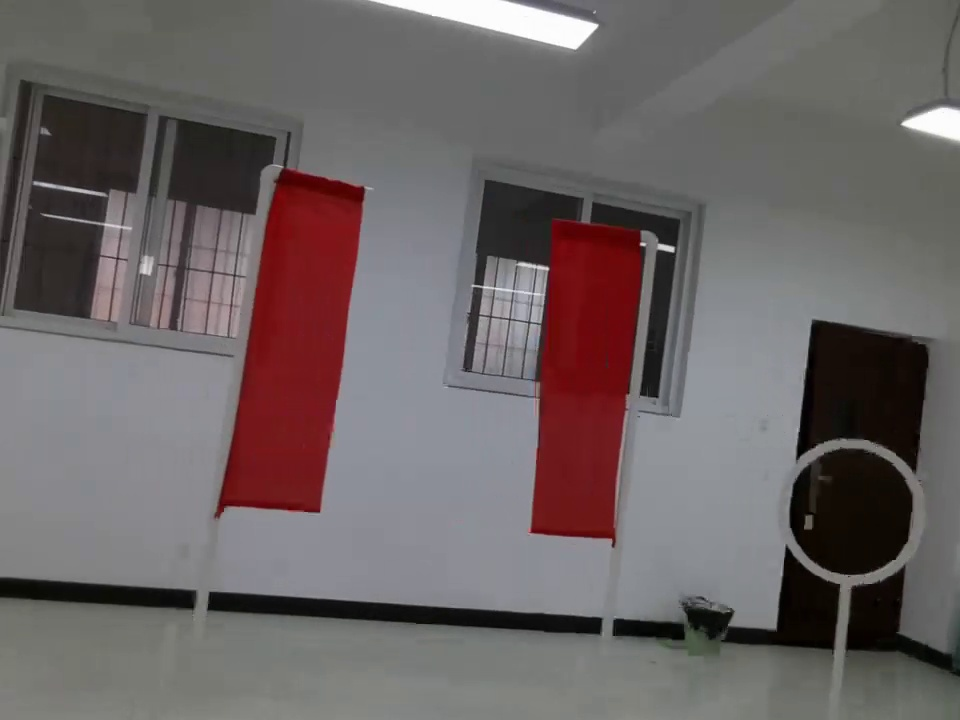qi: (208, 161, 369, 562), (530, 213, 661, 575)
quan: (772, 433, 932, 612)
